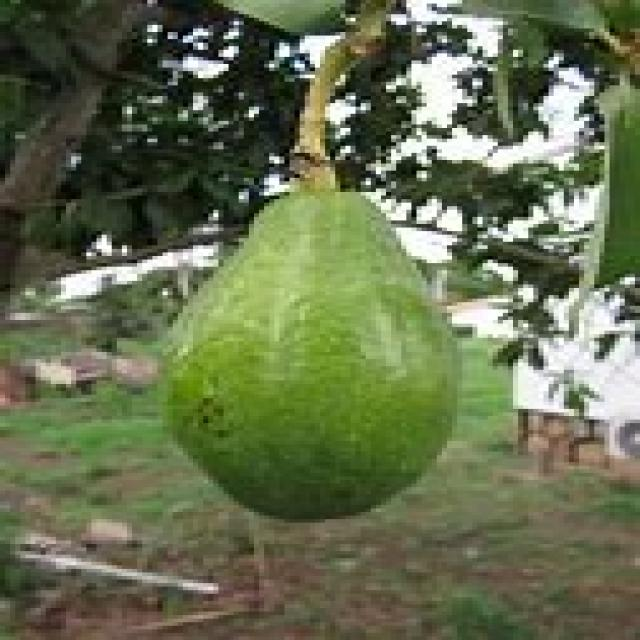Avocado: (161, 172, 476, 550)
